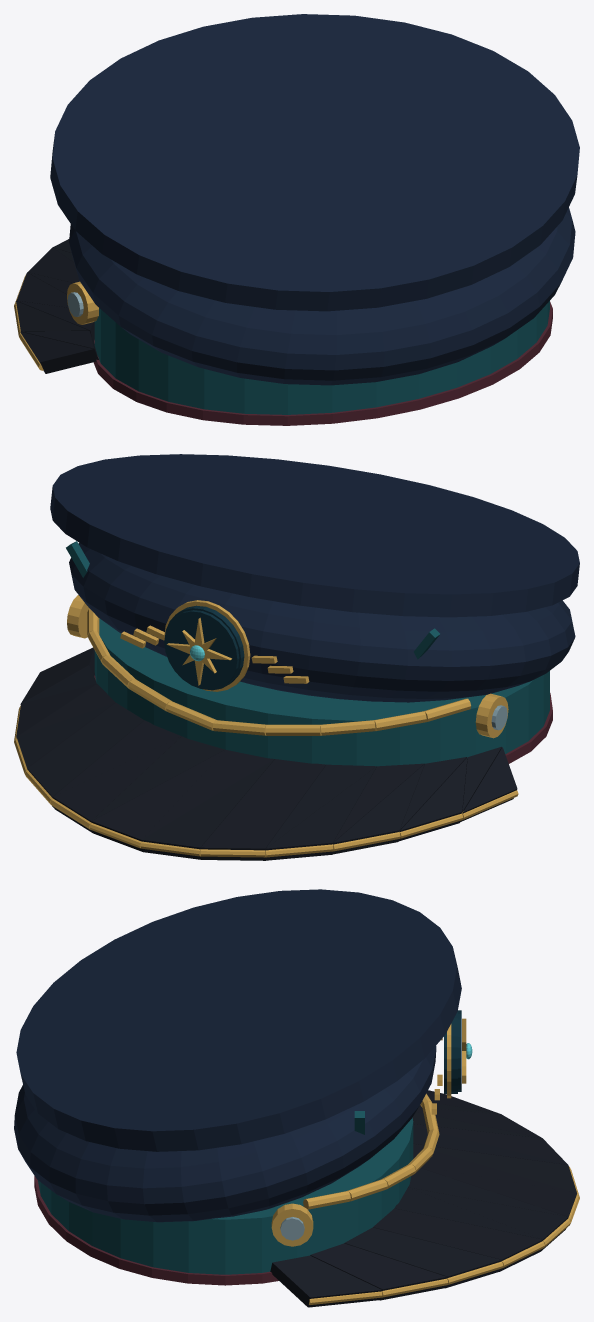
File: northwind_captain.obj
3 renders of one model, top to bottom at view 1: azimuth 30°, elevation 25°; view 2: azimuth 150°, elevation 25°; view 3: azimuth 270°, elevation 25°, orthographic. The views are drawn at different scales.
Parts seen in each view (by area): view 1: Northwind_Captain; view 2: Northwind_Captain; view 3: Northwind_Captain.
Part boxes in pixels (x1,y1,x2,y2): Northwind_Captain: [14, 14, 579, 425]; Northwind_Captain: [14, 454, 579, 860]; Northwind_Captain: [14, 889, 579, 1307].
Bounding box in the file's own units: 2.32 × 1.13 × 2.44.
Materials: 1 (1 with a texture image).
